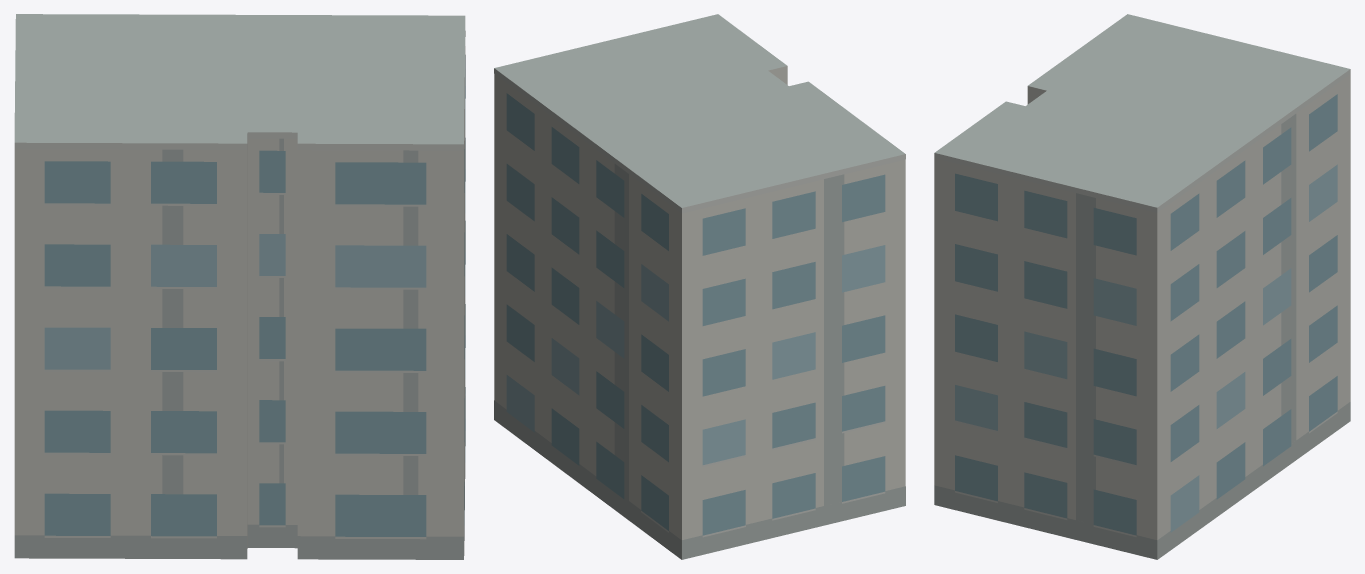
Rendered from survey-upis-33037403.glb.
3 views of the same model, side by side, from view 1: azimuth 30°, elevation 25°; view 2: azimuth 150°, elevation 25°; view 3: azimuth 270°, elevation 25° (orthographic). The views are drawn at different scales.
Parts seen in each view (by area): view 1: survey-upis-33037403.tmp; view 2: survey-upis-33037403.tmp; view 3: survey-upis-33037403.tmp.
Boxes of the visible parts, box(x1,y1,x2,y2) form: survey-upis-33037403.tmp: box(14, 14, 465, 559); survey-upis-33037403.tmp: box(494, 14, 905, 559); survey-upis-33037403.tmp: box(934, 14, 1350, 559).
Size of the model in its own units: 18.77 by 15.9 by 17.04.
